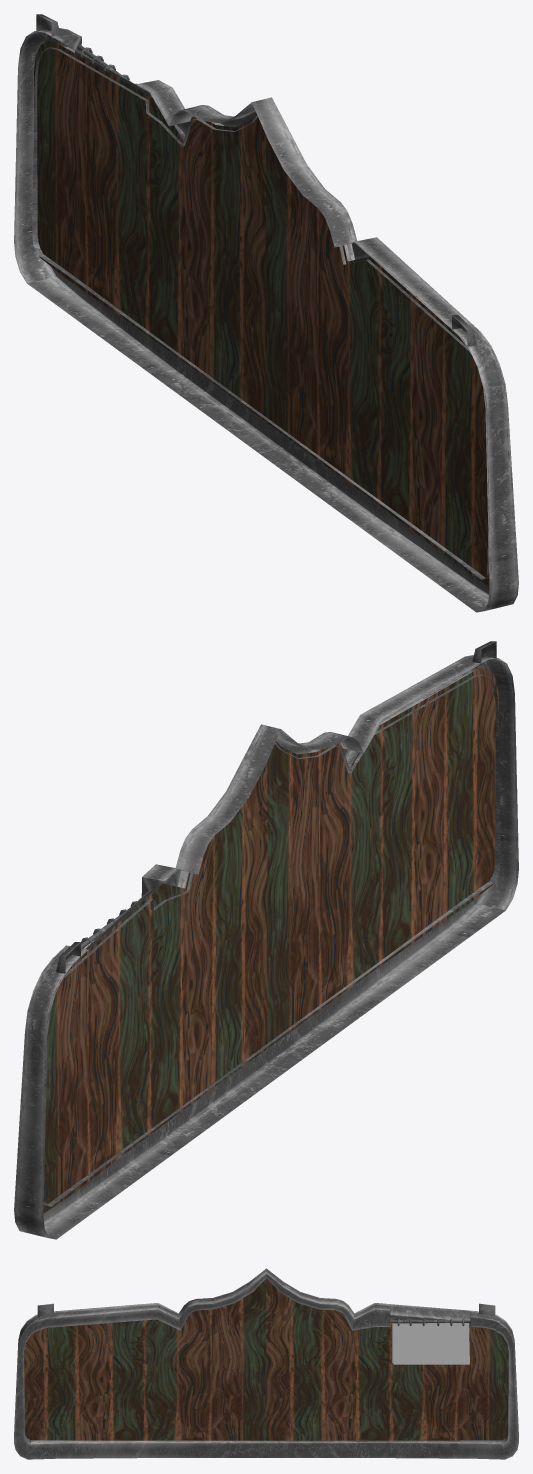
The model's file is Barrier.fbx.
3 views of the same model, one above another, from view 1: azimuth 30°, elevation 25°; view 2: azimuth 150°, elevation 25°; view 3: azimuth 270°, elevation 25° (orthographic). The views are drawn at different scales.
Visible parts, largest first — view 1: Barrier; view 2: Barrier; view 3: Barrier.
Part boxes in pixels (x1,y1,x2,y2): Barrier: (14,14,518,612); Barrier: (14,641,518,1239); Barrier: (14,1268,518,1459).
Bounding box in the file's own units: 13.37 × 149 × 372.
